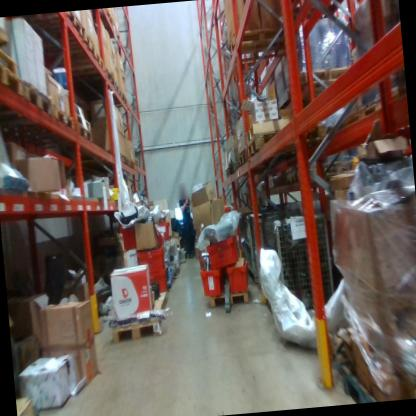pallet: (279, 156, 396, 405), (272, 57, 378, 128), (225, 22, 301, 70), (29, 46, 106, 83), (105, 297, 170, 339), (246, 128, 317, 163), (32, 26, 94, 65), (24, 74, 62, 131), (239, 110, 296, 145), (22, 11, 83, 41), (0, 50, 29, 105), (71, 142, 125, 170), (204, 282, 255, 311), (0, 28, 25, 74), (52, 100, 77, 134), (93, 68, 115, 92), (73, 109, 94, 133), (78, 122, 96, 148), (233, 147, 248, 172), (110, 75, 122, 100), (121, 87, 130, 110), (228, 158, 237, 178), (122, 150, 130, 170), (222, 167, 232, 180), (132, 155, 139, 167), (131, 158, 135, 172)
small_load_carrier: (201, 234, 242, 274), (224, 253, 255, 297), (116, 218, 149, 255), (138, 265, 172, 300), (196, 257, 225, 298), (132, 244, 167, 275), (152, 212, 174, 249)
stillage: (257, 207, 338, 326), (238, 201, 286, 289)
